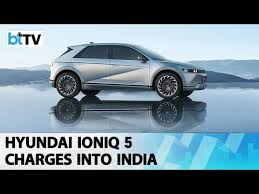Honda Ioniq: (47, 37, 212, 104)
